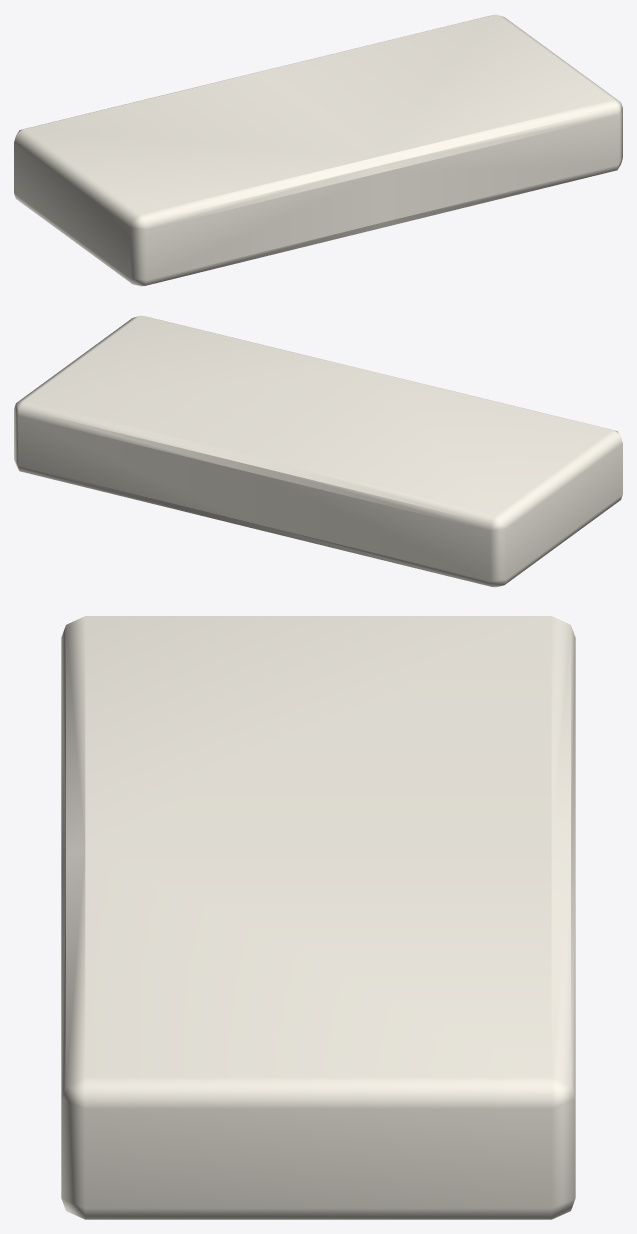
3 renders of one model, top to bottom at view 1: azimuth 30°, elevation 25°; view 2: azimuth 150°, elevation 25°; view 3: azimuth 270°, elevation 25°, orthographic. The views are drawn at different scales.
Visible parts, largest first — view 1: domino:domino:domino:domino:polySurface15; view 2: domino:domino:domino:domino:polySurface15; view 3: domino:domino:domino:domino:polySurface15.
Part boxes in pixels (x1,y1,x2,y2): domino:domino:domino:domino:polySurface15: (14,14,622,286); domino:domino:domino:domino:polySurface15: (14,315,622,587); domino:domino:domino:domino:polySurface15: (61,616,575,1219).
Size of the model in its own units: 3.28 by 0.4579 by 1.48.
1 material, 1 textured.
